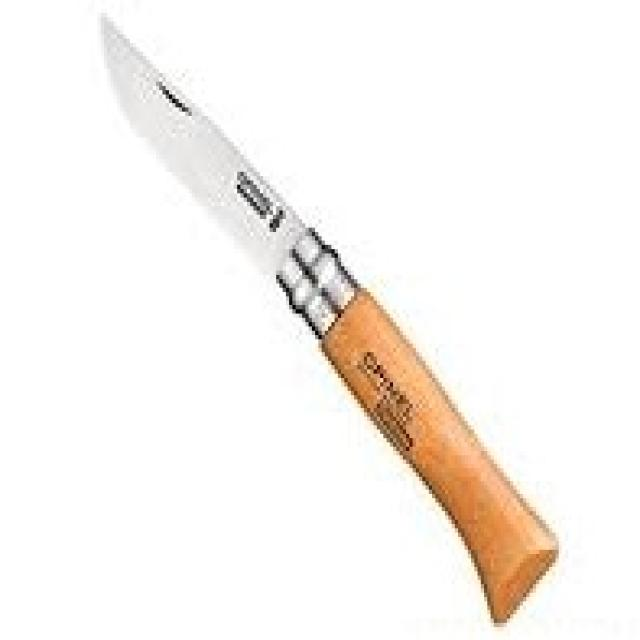knife: (99, 5, 566, 637)
